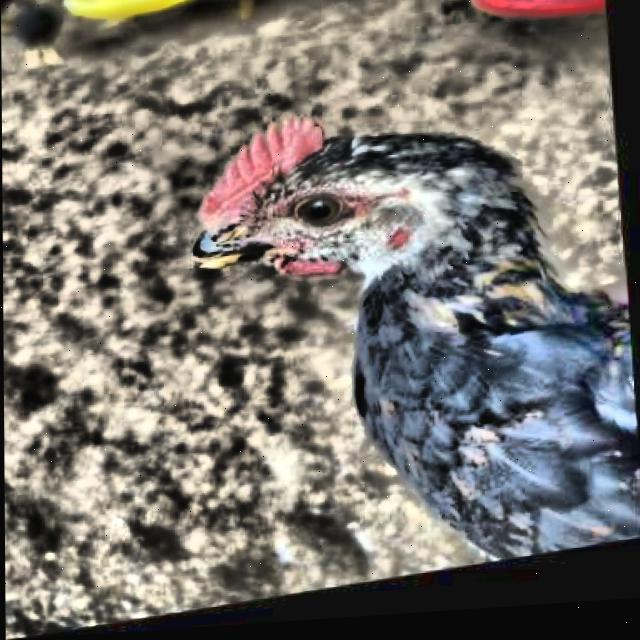Healthy: (286, 188, 355, 244)
